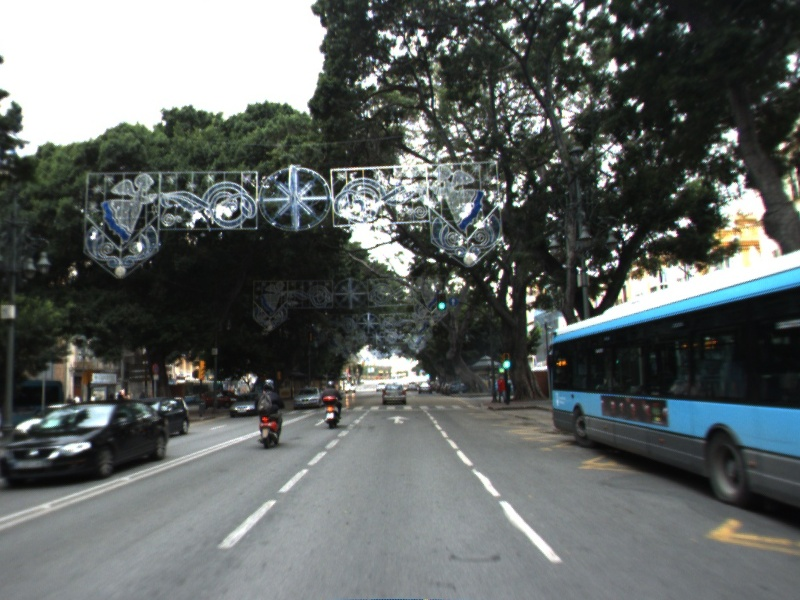STRAIGHT: (385, 414, 412, 426)
